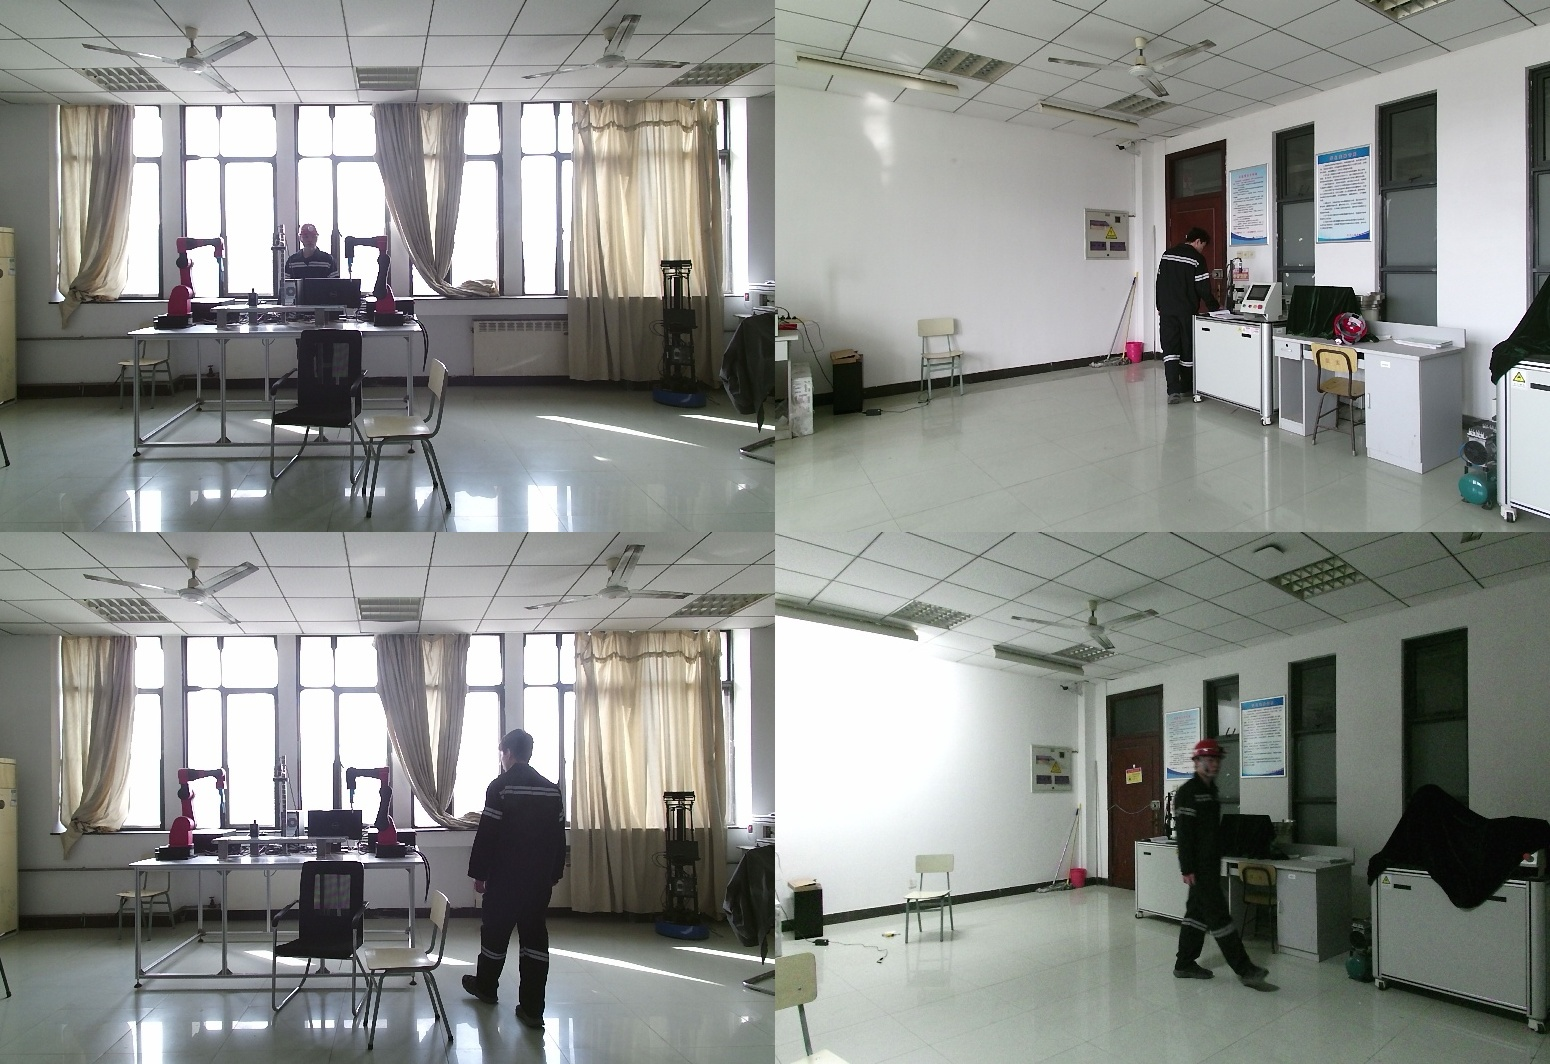person: (461, 732, 574, 1026), (1165, 738, 1268, 988), (1156, 235, 1223, 409), (283, 222, 342, 281)
